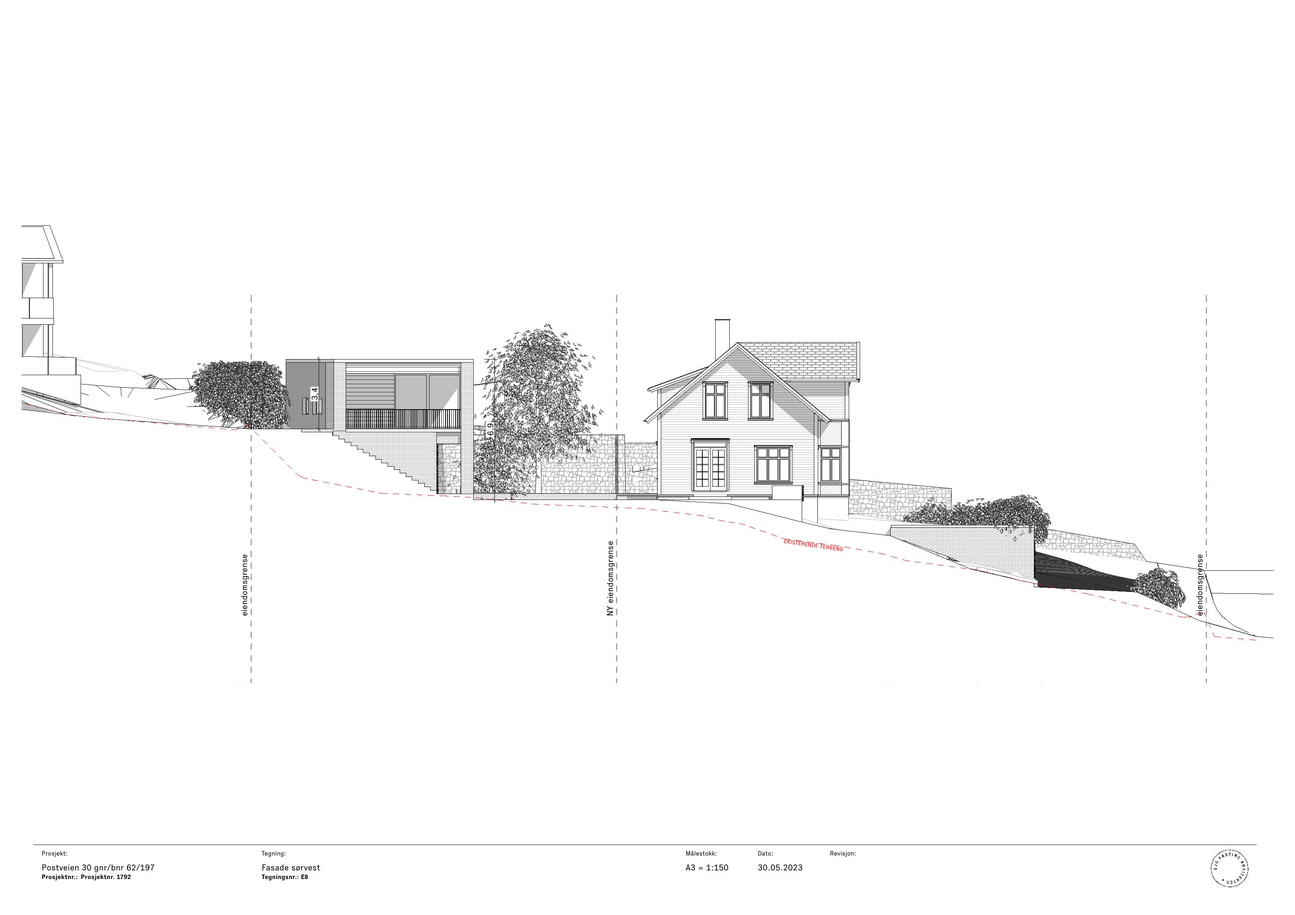fasade: (642, 318, 954, 570), (284, 357, 479, 502)
